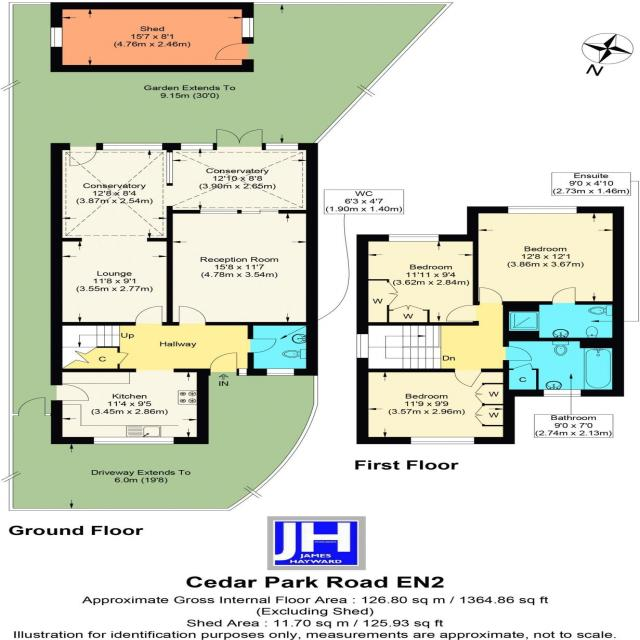DOOR: (68, 142, 100, 167), (207, 352, 238, 376), (49, 384, 91, 401), (452, 367, 485, 388), (134, 305, 165, 326), (177, 305, 208, 326), (445, 304, 480, 322), (16, 397, 47, 416), (245, 338, 279, 354), (550, 286, 577, 306), (478, 286, 505, 306), (501, 345, 534, 361)
DOUBLE DOOR: (211, 127, 266, 151)
ROOM: (49, 128, 319, 326), (165, 209, 319, 326), (465, 206, 625, 306), (356, 368, 515, 445), (50, 368, 208, 445), (356, 234, 480, 326)
WINDOW: (93, 436, 175, 445), (506, 205, 579, 215), (409, 436, 476, 445), (101, 142, 164, 151), (387, 234, 440, 242), (542, 388, 583, 397), (164, 151, 174, 185), (356, 333, 369, 359), (264, 142, 301, 151), (179, 142, 215, 151), (198, 209, 240, 215), (266, 368, 295, 376), (238, 368, 247, 376)
